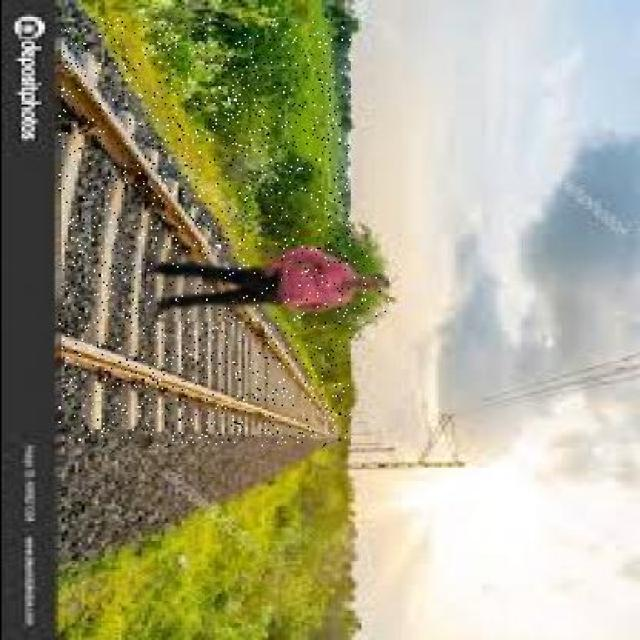danger: (144, 249, 388, 322)
rail: (57, 19, 348, 446)
